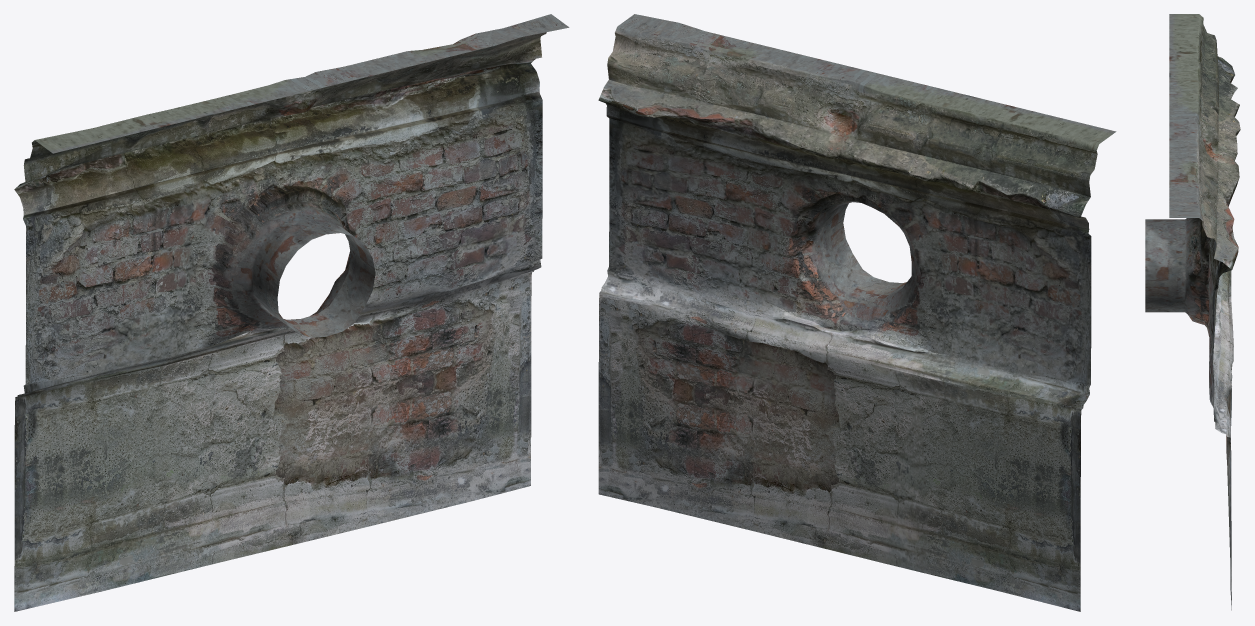
File: SM_ChapelWall_04_03_OneSide.fbx
3 views of the same model, side by side, from view 1: azimuth 30°, elevation 25°; view 2: azimuth 150°, elevation 25°; view 3: azimuth 270°, elevation 25° (orthographic). The views are drawn at different scales.
Visible parts, largest first — view 1: sm_ChapelWall_04_03_OneSide_LOD0; view 2: sm_ChapelWall_04_03_OneSide_LOD0; view 3: sm_ChapelWall_04_03_OneSide_LOD0.
Boxes of the visible parts, left/top/right/bottom form: sm_ChapelWall_04_03_OneSide_LOD0: left=14, top=14, right=569, bottom=611; sm_ChapelWall_04_03_OneSide_LOD0: left=598, top=14, right=1116, bottom=611; sm_ChapelWall_04_03_OneSide_LOD0: left=1145, top=14, right=1240, bottom=610.
Size of the model in its own units: 49.34 by 250 by 226.
